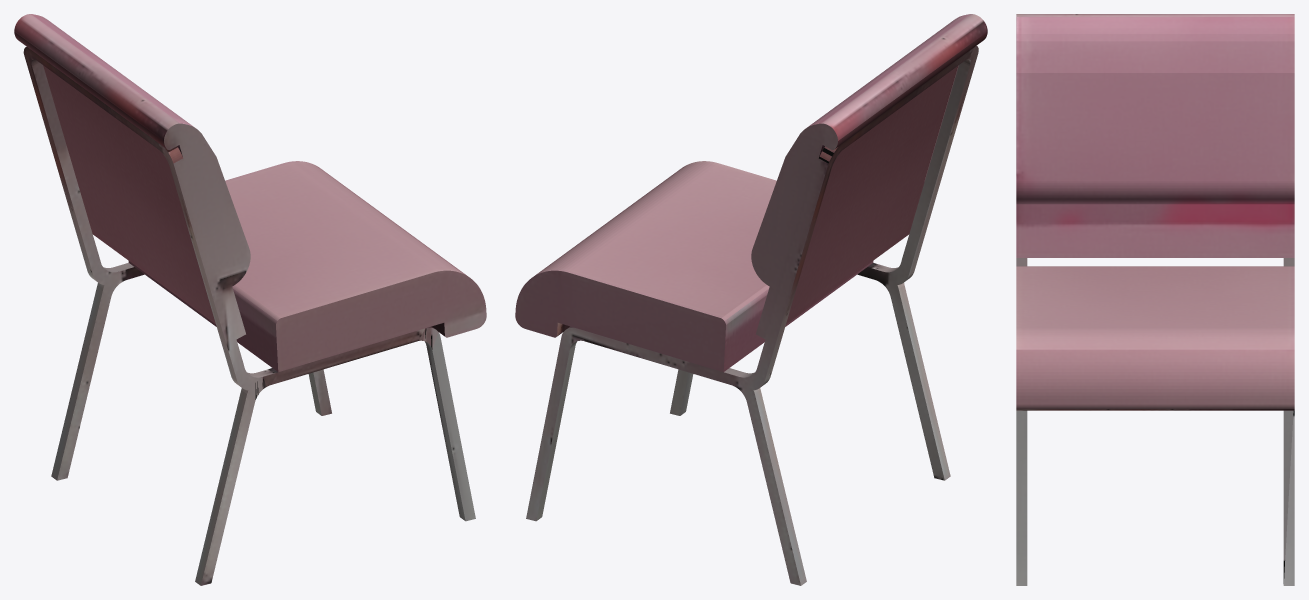
3 views of the same model, side by side, from view 1: azimuth 30°, elevation 25°; view 2: azimuth 150°, elevation 25°; view 3: azimuth 270°, elevation 25° (orthographic). The views are drawn at different scales.
Visible parts, largest first — view 1: Node; view 2: Node; view 3: Node.
Part boxes in pixels (<box>): Node: <box>14,14,486,585</box>; Node: <box>515,14,987,585</box>; Node: <box>1016,14,1294,585</box>.
Bounding box in the file's own units: 0.5052 × 0.7 × 0.4058.
Materials: 1 (1 with a texture image).
